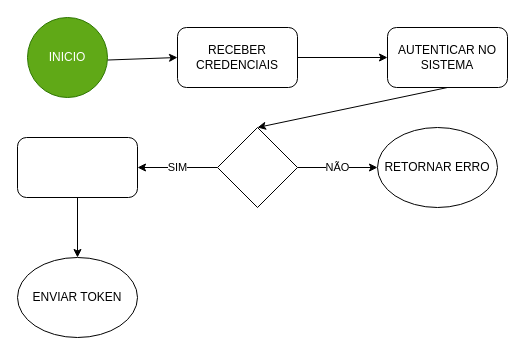
This 525x355 diagram has some shape labels left out. The box of each missing label's shape, as (x1, y1, x2, y2) in pixels:
GERAR TOKEN JWT: (16, 136, 138, 198)
VALIDA?: (216, 126, 298, 208)
